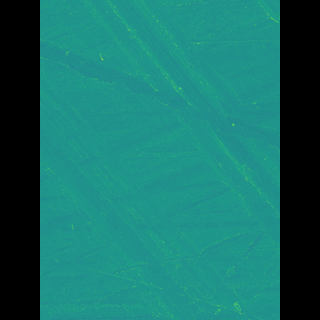Loch: (69, 62, 231, 320), (102, 0, 250, 250)
